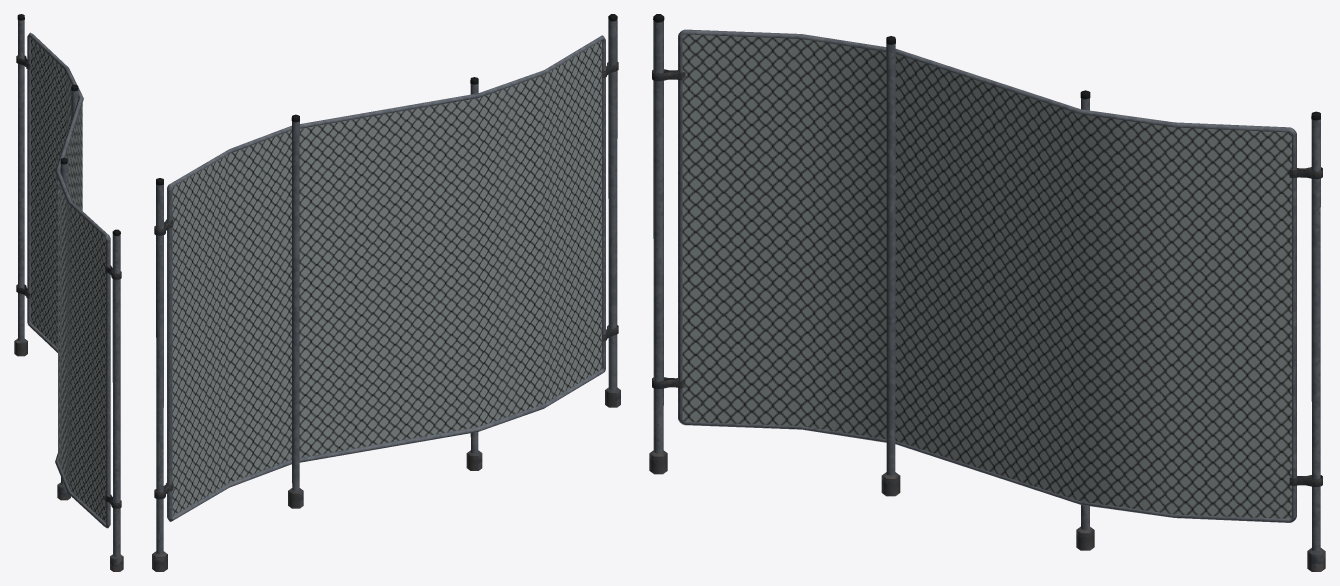
The model's file is Fence_B_C.fbx.
3 renders of one model, left to right at view 1: azimuth 30°, elevation 25°; view 2: azimuth 150°, elevation 25°; view 3: azimuth 270°, elevation 25°, orthographic. The views are drawn at different scales.
Visible parts, largest first — view 1: Fence_B_C; view 2: Fence_B_C; view 3: Fence_B_C.
Part boxes in pixels (left/top/right/bottom): Fence_B_C: left=14, top=14, right=123, bottom=571; Fence_B_C: left=152, top=14, right=620, bottom=571; Fence_B_C: left=649, top=14, right=1325, bottom=571.
Bounding box in the file's own units: 106 × 216 × 290.
